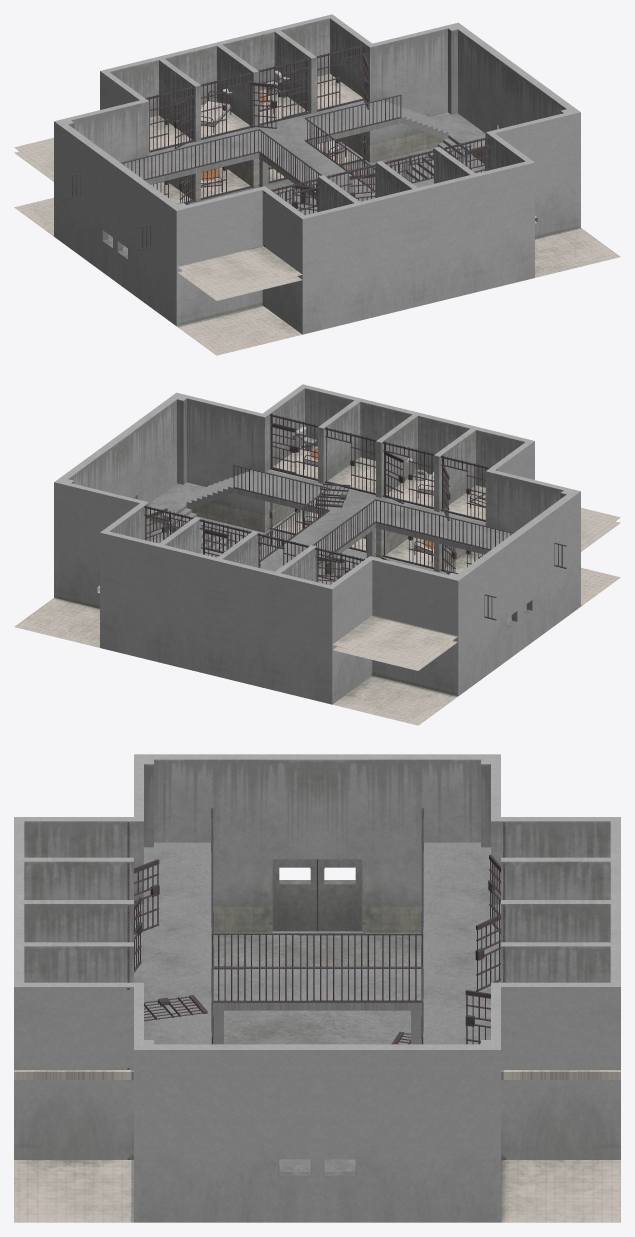
The picture shows the model from 3 angles, top to bottom: view 1: azimuth 30°, elevation 25°; view 2: azimuth 150°, elevation 25°; view 3: azimuth 270°, elevation 25°; orthographic projection. The views are drawn at different scales.
Visible parts, largest first — view 1: polySurface106, pCube22, pCube1, polySurface72 (×5), pCube18, polySurface115, polySurface125, door (×3), door62628468; view 2: polySurface106, pCube22, pCube1, polySurface72 (×4), door62628468, pCube20, polySurface125, door (×2), polySurface115; view 3: polySurface106, pCube22, pCube1, polySurface125, door (×3), polySurface115, door62628468, pCube31, door626284.
Part boxes in pixels (x1,y1,x2,y2): polySurface106: (54,14,580,334); pCube22: (14,73,537,300); pCube1: (14,140,620,355); polySurface72 (×5): (145,44,365,199); pCube18: (379,100,485,181); polySurface115: (68,94,401,198); polySurface125: (259,118,375,194); door (×3): (174,68,306,148); door62628468: (138,146,471,250); polySurface106: (54,384,580,704); pCube22: (97,444,620,670); pCube1: (14,510,620,725); polySurface72 (×4): (270,414,496,521); door62628468: (233,464,566,568); pCube20: (149,470,255,551); polySurface125: (259,488,376,564); door (×2): (271,424,404,503); polySurface115: (164,515,496,620); polySurface106: (14,754,620,1222); pCube22: (14,842,620,1079); pCube1: (14,931,620,1222); polySurface125: (211,933,423,1002); door (×3): (134,859,500,1021); polySurface115: (421,808,423,1044); door62628468: (211,808,213,1044); pCube31: (214,1010,420,1044); door626284: (465,990,490,1044).
Bounding box in the file's own units: 18.71 × 5.06 × 15.78.
3 materials, 3 textured.
